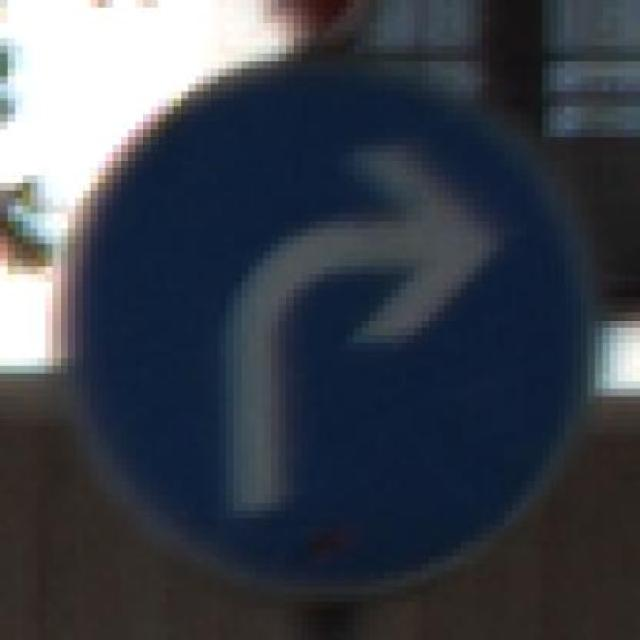Turn right ahead: (30, 38, 602, 610)
